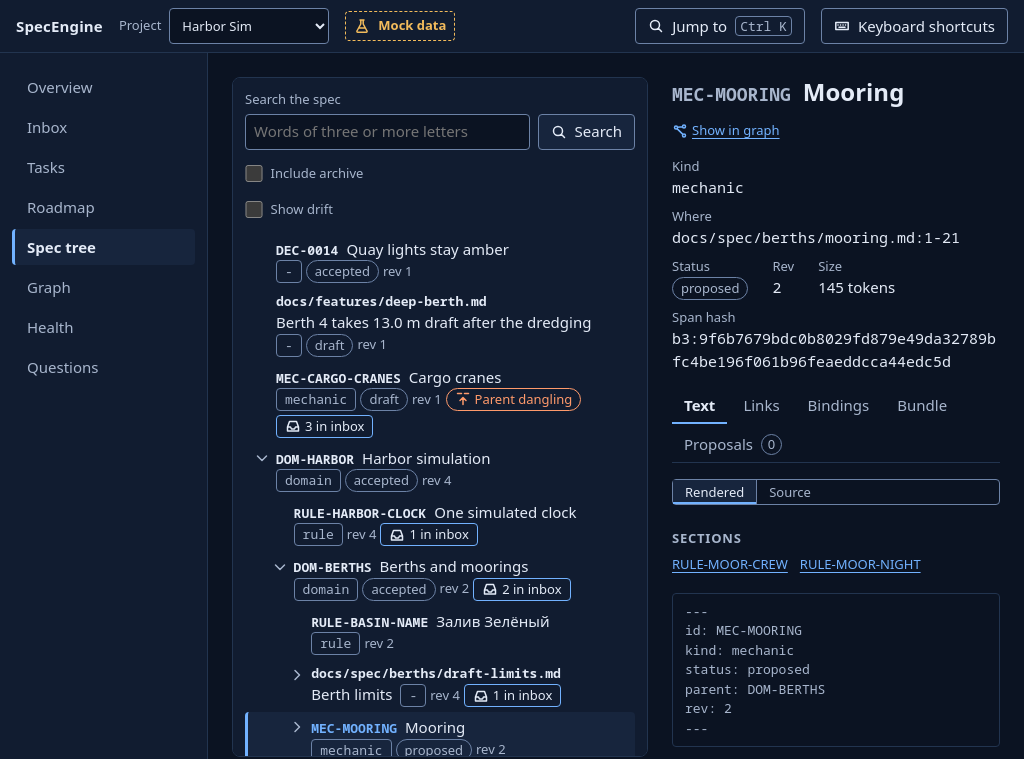
Scenario: the Bindings tab over the mock (UI-2, UI-3, UI-4, UI-8 of ui-node-bindings) › normal: rows in the daemon's order, never by sync or file; the node and its sections; a moved row
Click the tab "Bindings": (838, 406) [796,388,881,424]
(page scrolled)
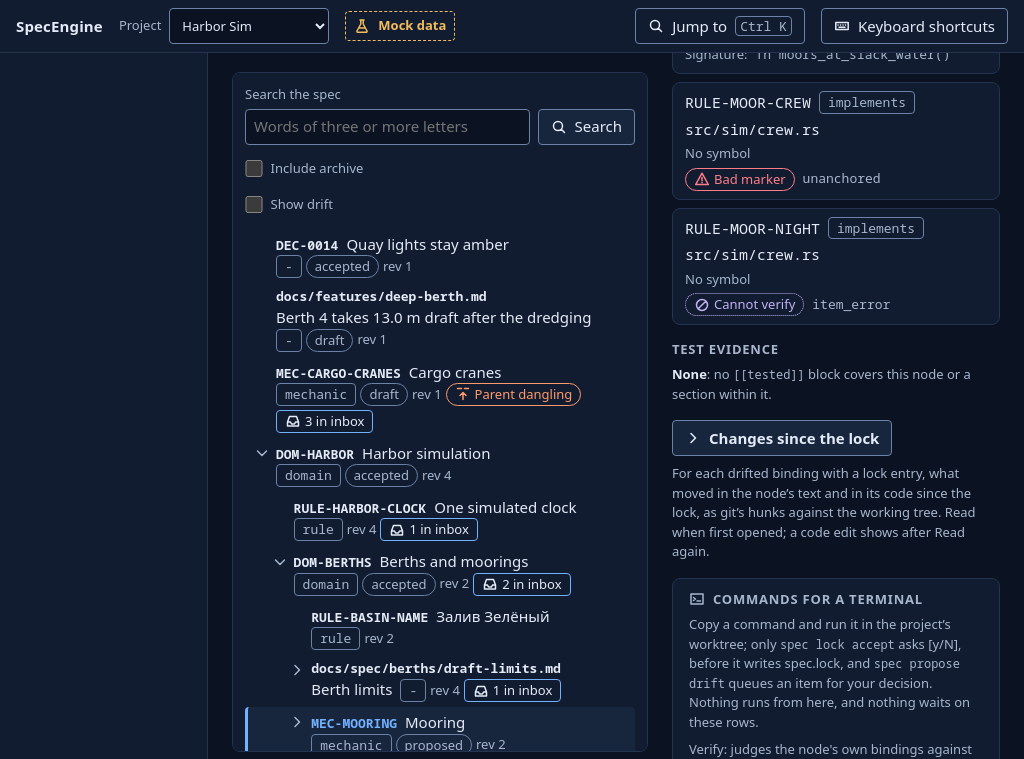
Expected: the element that starts with "None" reads "None: no [ [tested]] block covers this node or a section within it.", [672,365,1000,404]
